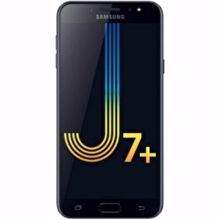Handphone: (54, 1, 168, 220)
